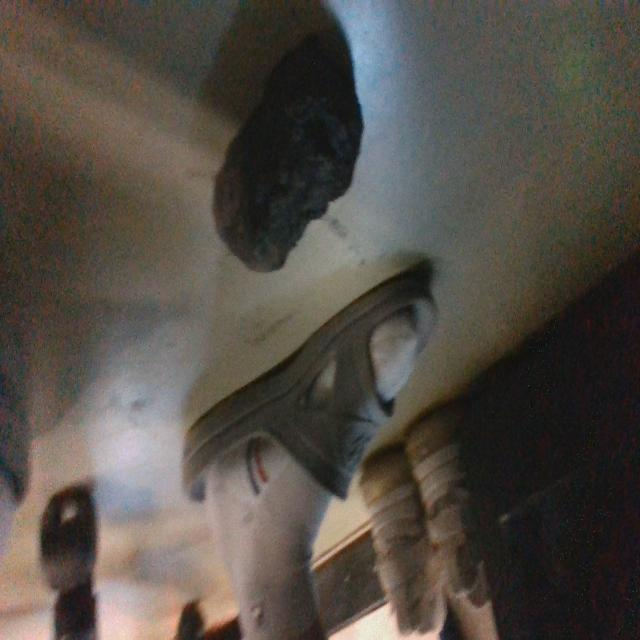stone: (214, 38, 364, 274)
